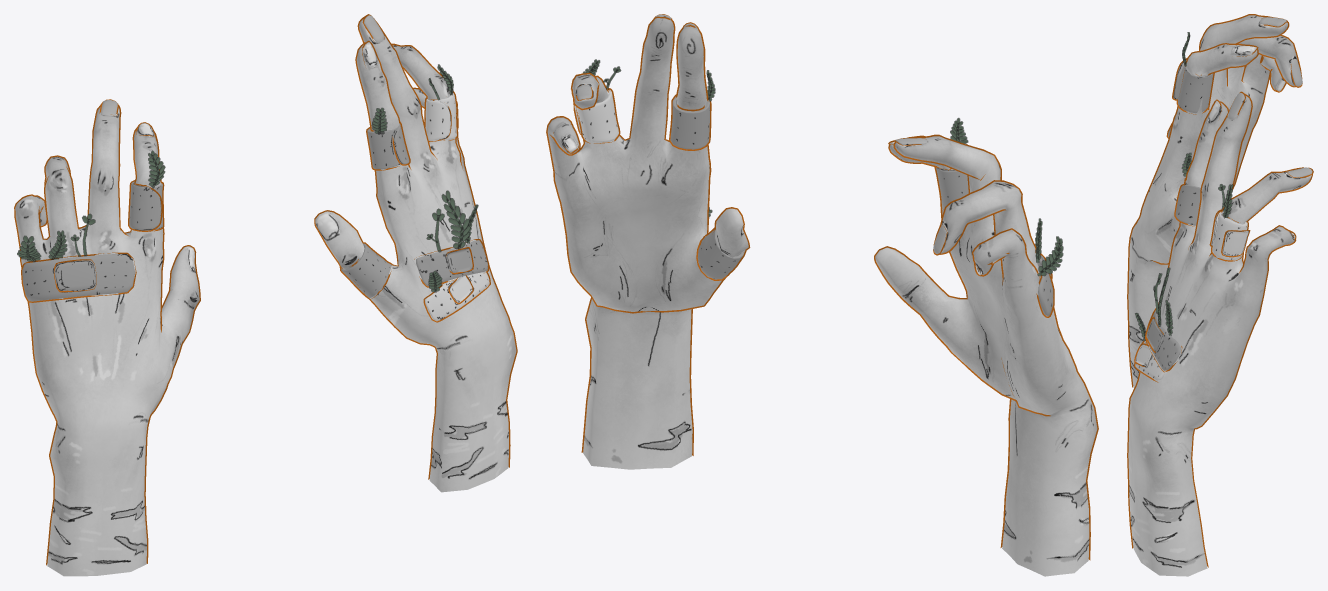
File: handsbw.glb
The picture shows the model from 3 angles, left to right: view 1: azimuth 30°, elevation 25°; view 2: azimuth 150°, elevation 25°; view 3: azimuth 270°, elevation 25°; orthographic projection. The views are drawn at different scales.
Parts seen in each view (by area): view 1: Object_4, Object_5, Object_6, Object_2, Object_3; view 2: Object_4, Object_6, Object_5, Object_2, Object_3; view 3: Object_4, Object_6, Object_5, Object_2, Object_3.
Boxes of the visible parts, bbox=[...] form: Object_4: bbox=[15, 15, 516, 576]; Object_5: bbox=[22, 93, 489, 321]; Object_6: bbox=[14, 14, 517, 565]; Object_2: bbox=[17, 64, 478, 292]; Object_3: bbox=[17, 65, 477, 291]; Object_4: bbox=[547, 14, 1097, 576]; Object_6: bbox=[546, 14, 1098, 560]; Object_5: bbox=[574, 90, 1053, 316]; Object_2: bbox=[583, 59, 1063, 276]; Object_3: bbox=[583, 60, 1062, 275]; Object_4: bbox=[1128, 15, 1312, 576]; Object_6: bbox=[1127, 14, 1313, 567]; Object_5: bbox=[1135, 60, 1248, 380]; Object_2: bbox=[1135, 32, 1233, 341]; Object_3: bbox=[1135, 32, 1232, 340].
Bounding box in the file's own units: 0.9811 × 0.9038 × 0.3503.
5 materials, 2 textured.
